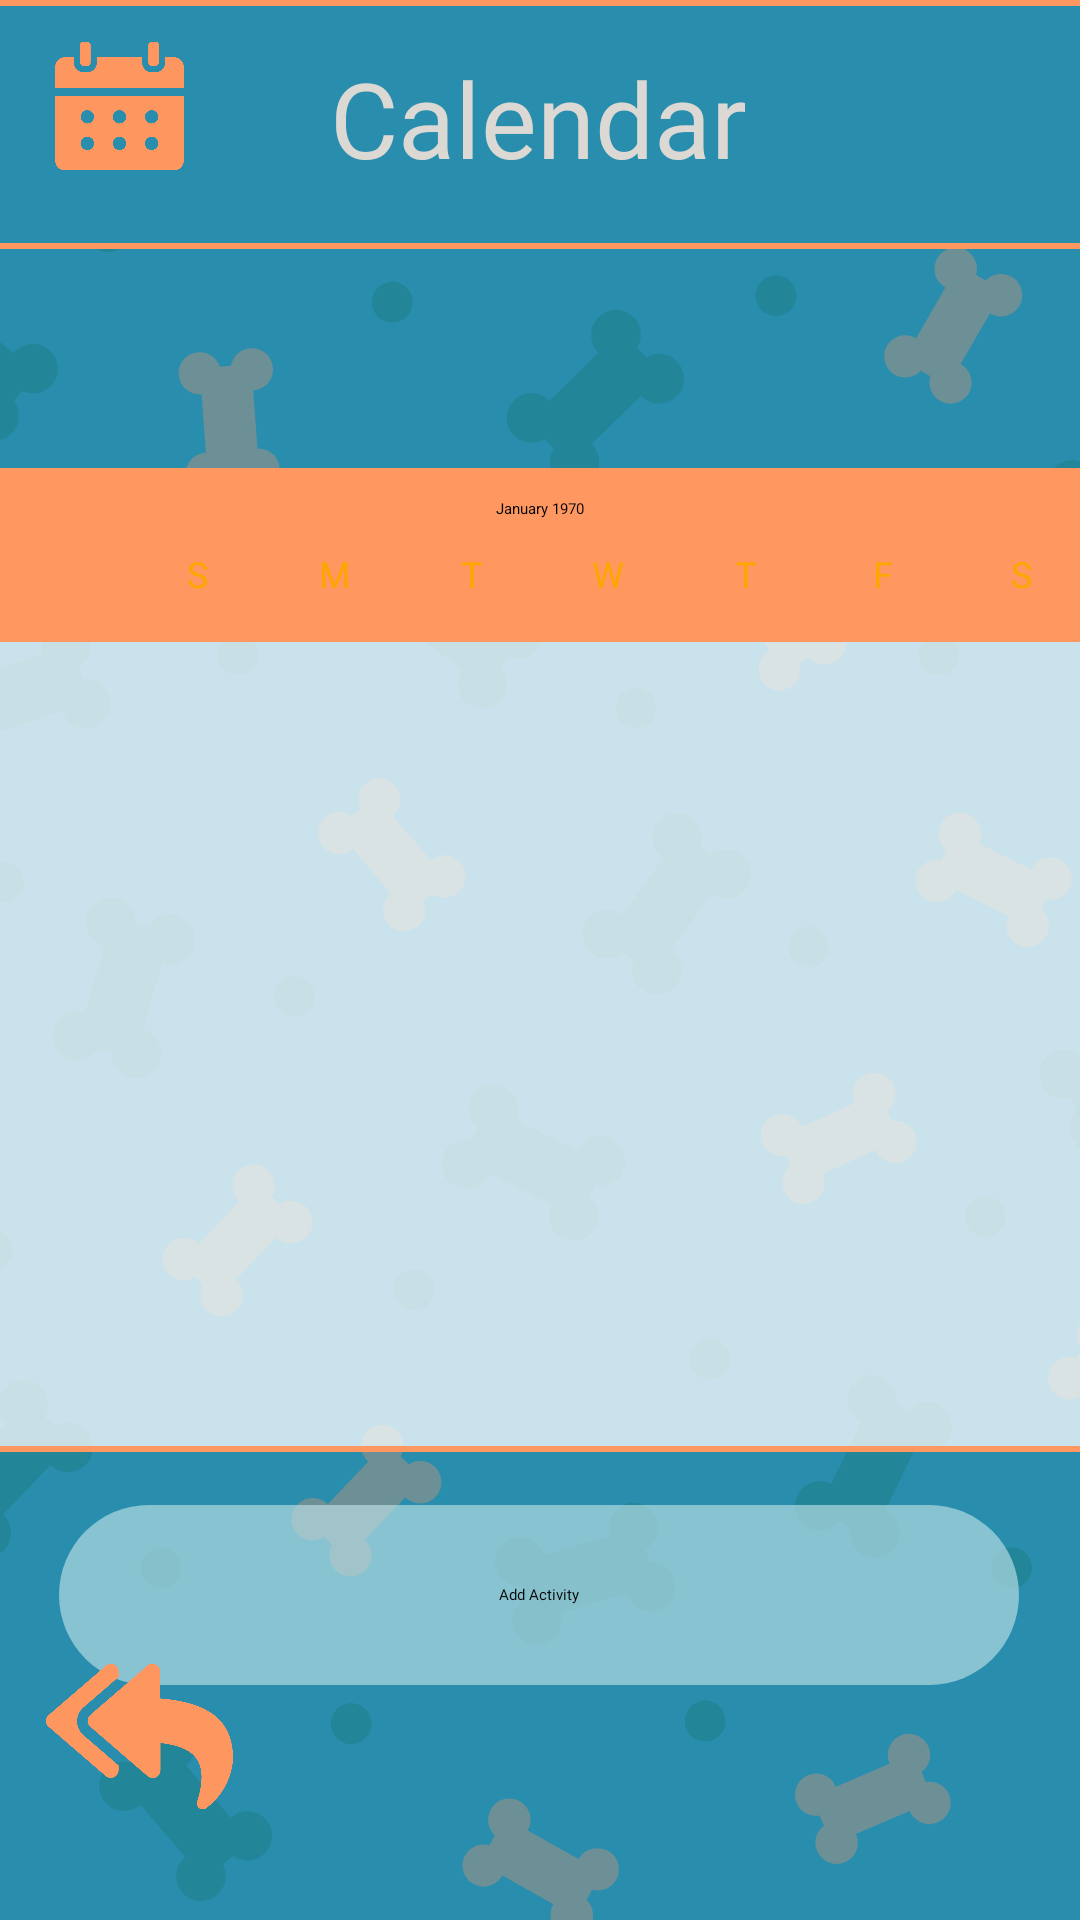

Icons on this 1080px×1920px Android screen, each with its box as box=[x1, y1, x2, y2]:
backbutton: box=[46, 1639, 237, 1809]
